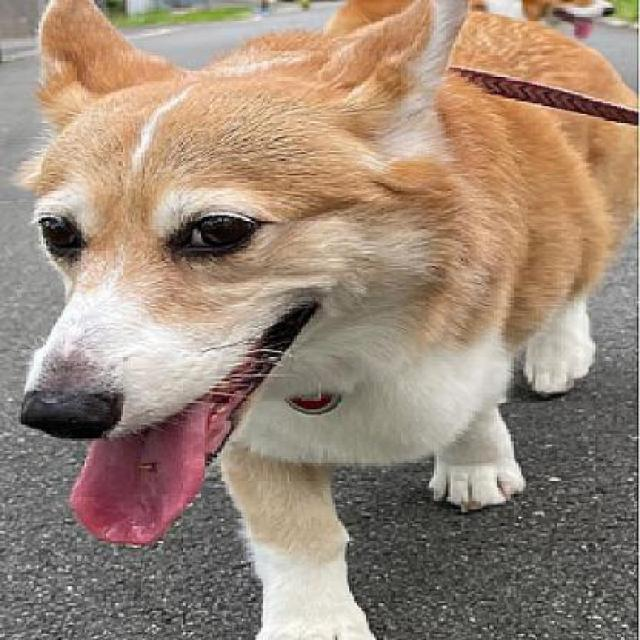Dog: (4, 0, 632, 638)
